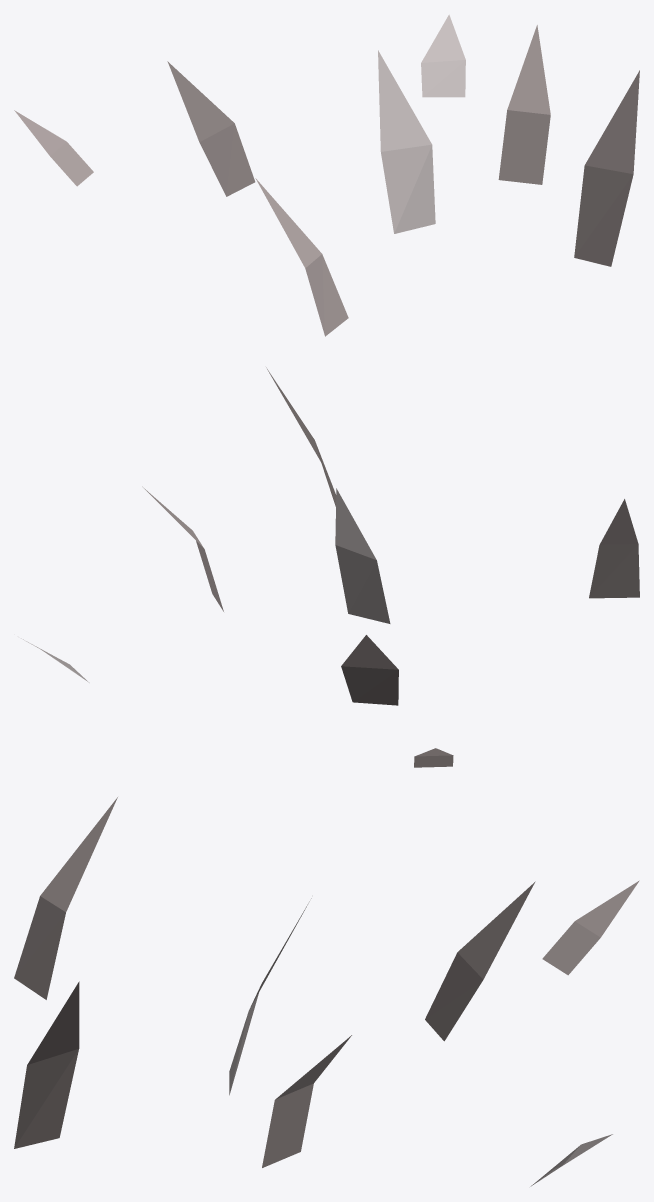
The picture shows the model from 3 angles, top to bottom: view 1: azimuth 30°, elevation 25°; view 2: azimuth 150°, elevation 25°; view 3: azimuth 270°, elevation 25°; orthographic projection. The views are drawn at different scales.
Bounding box in the file's own units: 92 × 34 × 96.
1 material, 1 textured.
